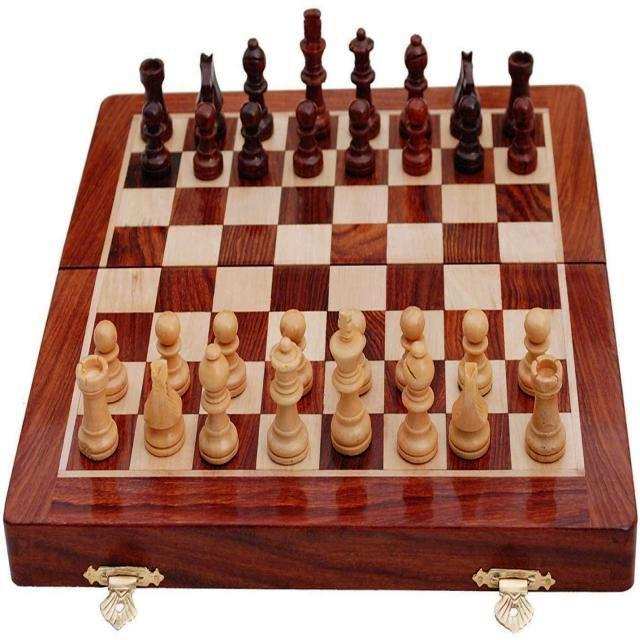chess-table-corners: (565, 448, 593, 491), (51, 452, 77, 488), (535, 100, 556, 125), (127, 107, 143, 128)
